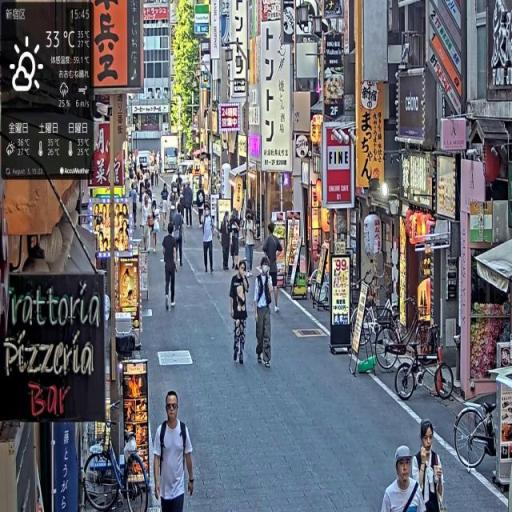person: (153, 388, 196, 512), (412, 420, 446, 512), (383, 444, 429, 512), (253, 254, 275, 368), (230, 259, 251, 365), (262, 223, 284, 316), (162, 223, 179, 310), (244, 210, 258, 279), (172, 205, 187, 267), (202, 206, 215, 277), (220, 209, 234, 273), (151, 200, 162, 253), (184, 181, 195, 227)
